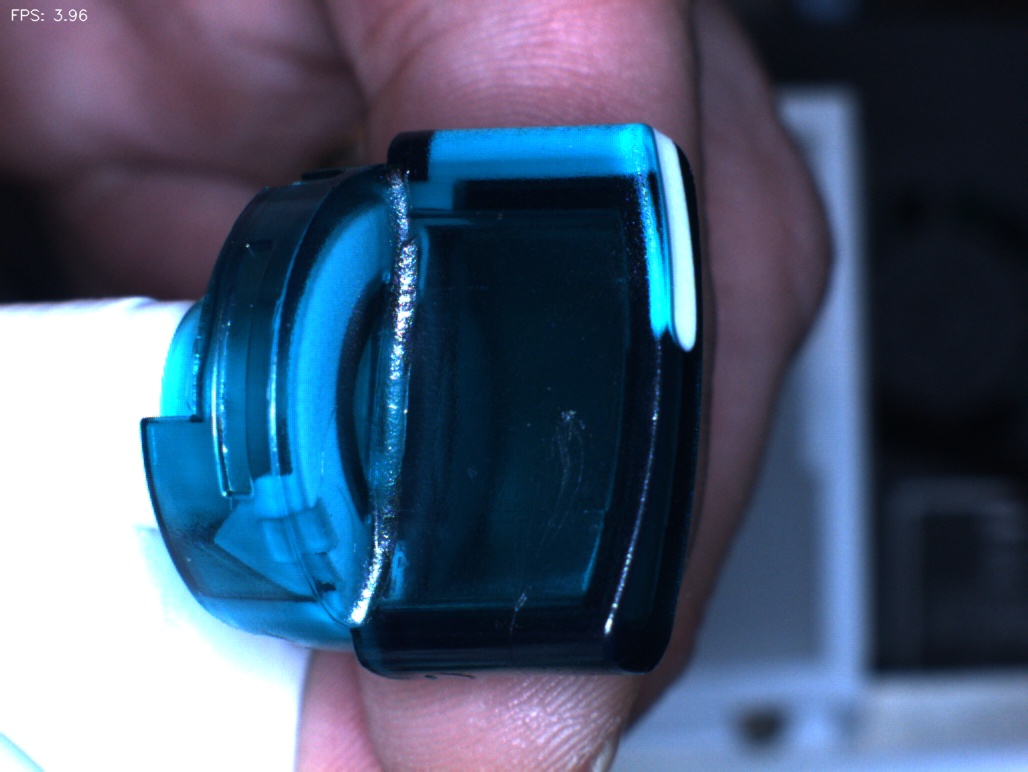Givrage: (486, 404, 597, 628)
